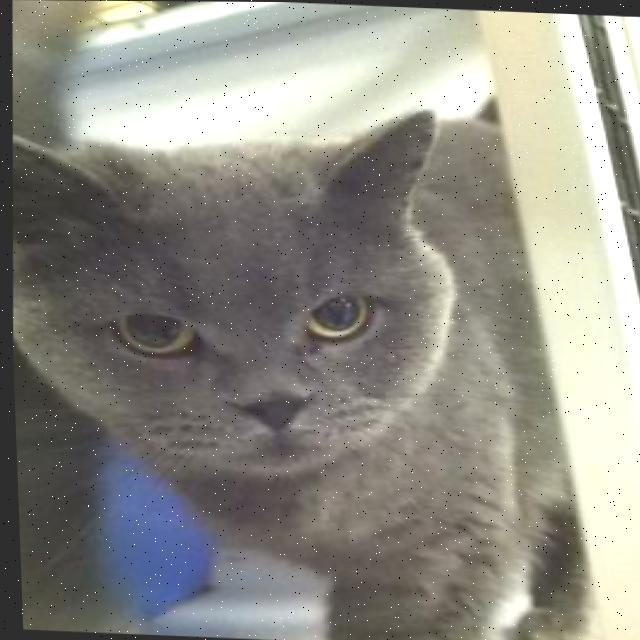British Shorthair: (2, 63, 613, 640)
